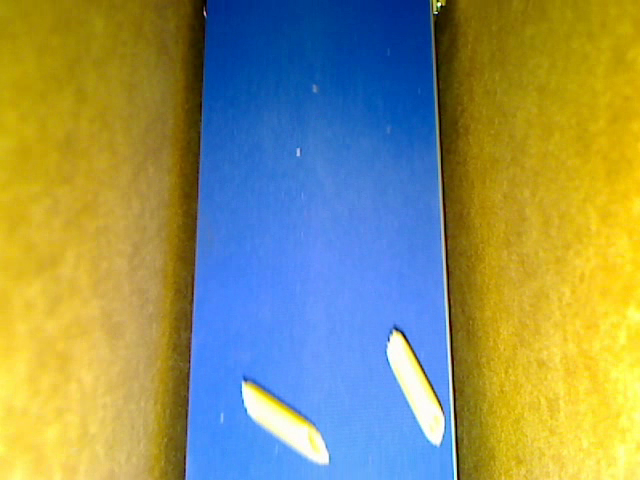penne: (240, 379, 329, 465), (385, 329, 446, 447)
